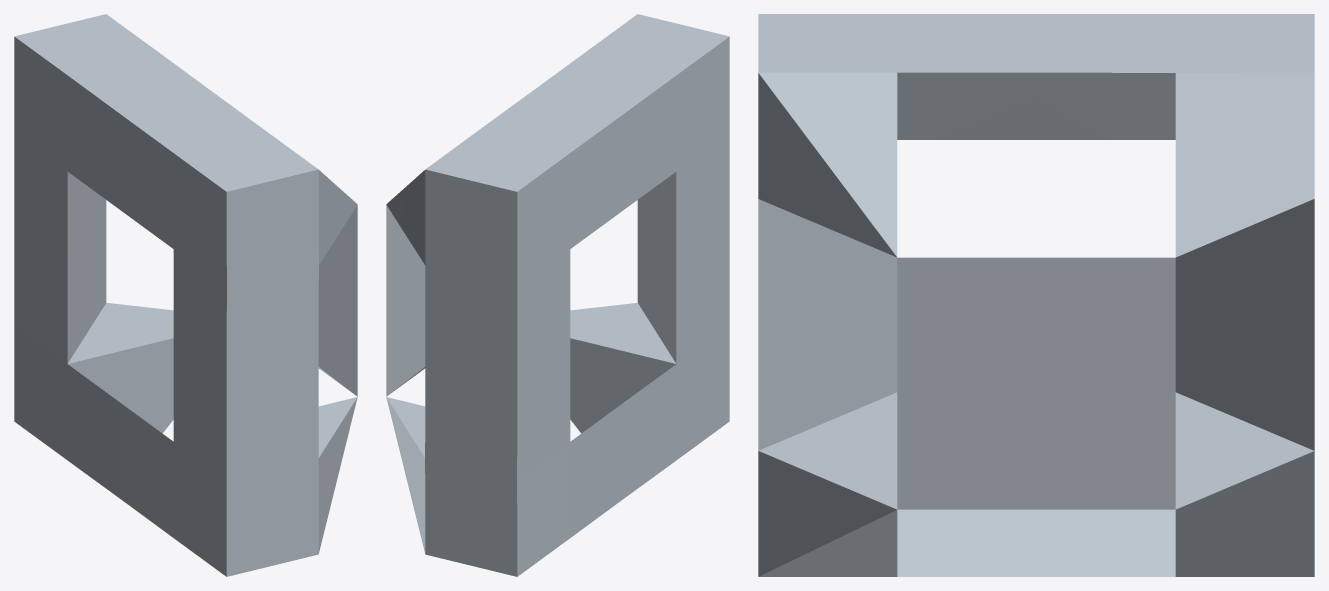
Rendered from cluster-jet.glb.
The picture shows the model from 3 angles, left to right: view 1: azimuth 30°, elevation 25°; view 2: azimuth 150°, elevation 25°; view 3: azimuth 270°, elevation 25°; orthographic projection. The views are drawn at different scales.
Visible parts, largest first — view 1: cluster-Jet; view 2: cluster-Jet; view 3: cluster-Jet.
Part boxes in pixels (x1,y1,x2,y2): cluster-Jet: [14, 14, 357, 576]; cluster-Jet: [386, 14, 729, 576]; cluster-Jet: [758, 14, 1314, 576].
Size of the model in its own units: 0.5005 by 1 by 1.
